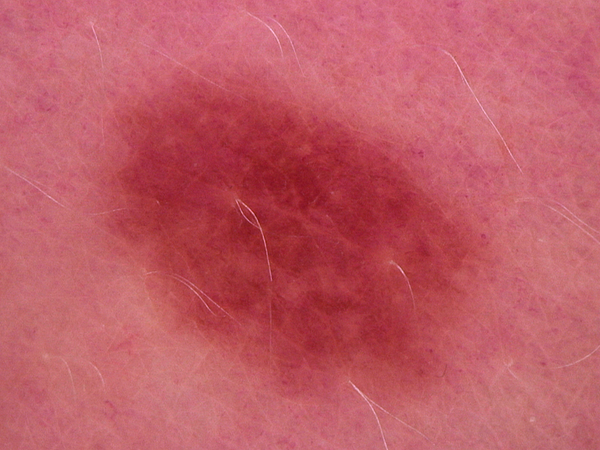Detected Lesion: (110, 72, 496, 397)
